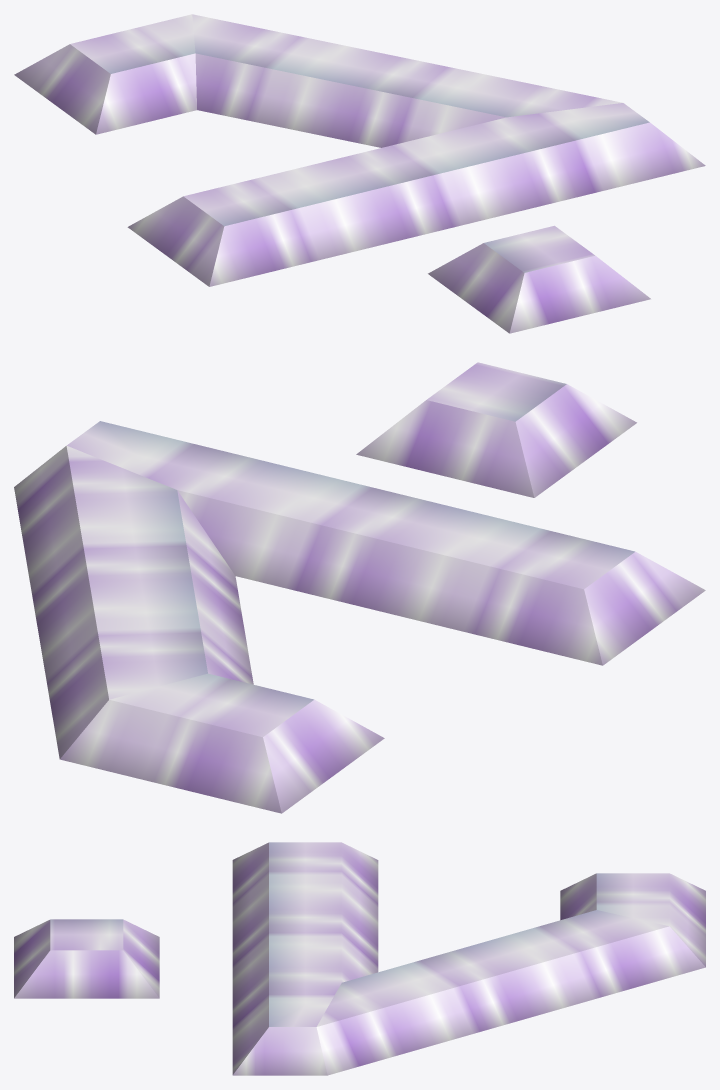
File: rune_style_p_active.obj
3 views of the same model, one above another, from view 1: azimuth 30°, elevation 25°; view 2: azimuth 150°, elevation 25°; view 3: azimuth 270°, elevation 25° (orthographic). The views are drawn at different scales.
Visible parts, largest first — view 1: RUNE_STYLE_P_ACTIVE_Plane.004; view 2: RUNE_STYLE_P_ACTIVE_Plane.004; view 3: RUNE_STYLE_P_ACTIVE_Plane.004.
Boxes of the visible parts, box(x1,y1,x2,y2) form: RUNE_STYLE_P_ACTIVE_Plane.004: box(14, 14, 705, 333); RUNE_STYLE_P_ACTIVE_Plane.004: box(14, 362, 705, 813); RUNE_STYLE_P_ACTIVE_Plane.004: box(14, 842, 705, 1075).
Size of the model in its own units: 0.4375 by 0.0312 by 0.5938.
